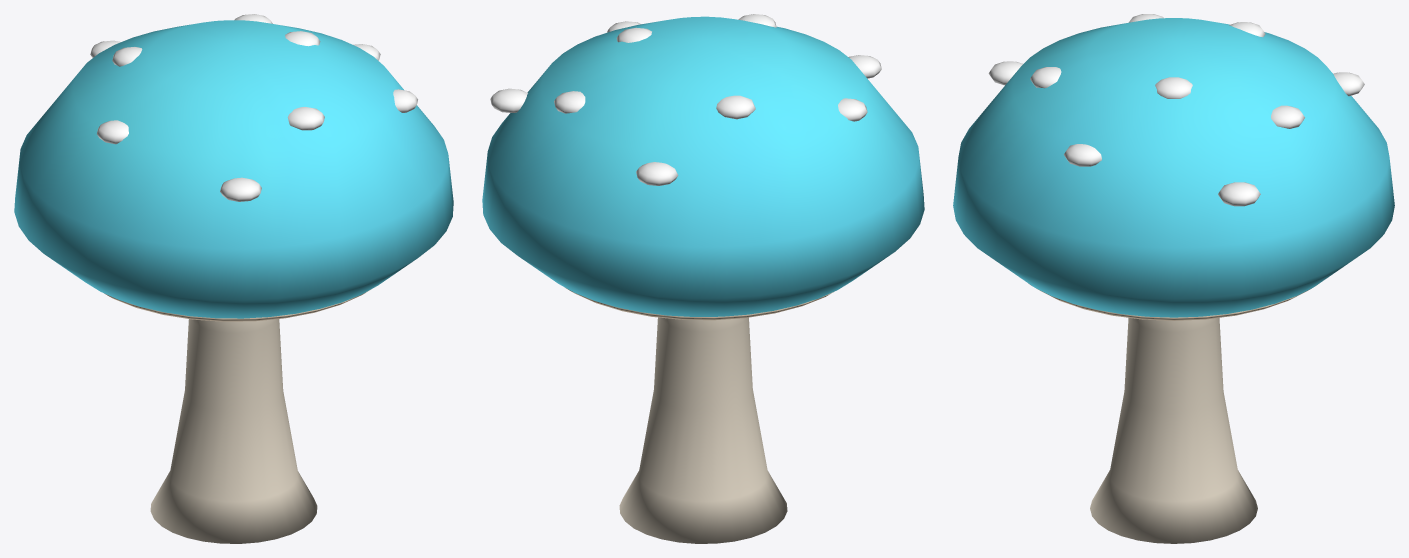
The model's file is bg_mush_aqua.glb.
3 views of the same model, side by side, from view 1: azimuth 30°, elevation 25°; view 2: azimuth 150°, elevation 25°; view 3: azimuth 270°, elevation 25° (orthographic).
Visible parts, largest first — view 1: M_Mush_aqua__m_cap_aqua, M_Mush_aqua__m_stem, M_Mush_aqua__m_spot, M_Mush_aqua__m_under; view 2: M_Mush_aqua__m_cap_aqua, M_Mush_aqua__m_stem, M_Mush_aqua__m_spot, M_Mush_aqua__m_under; view 3: M_Mush_aqua__m_cap_aqua, M_Mush_aqua__m_stem, M_Mush_aqua__m_spot, M_Mush_aqua__m_under.
Part boxes in pixels (x1,y1,x2,y2): M_Mush_aqua__m_cap_aqua: [14, 20, 453, 318]; M_Mush_aqua__m_stem: [150, 319, 317, 543]; M_Mush_aqua__m_spot: [90, 14, 417, 201]; M_Mush_aqua__m_under: [104, 289, 371, 321]; M_Mush_aqua__m_cap_aqua: [482, 16, 924, 316]; M_Mush_aqua__m_stem: [619, 317, 787, 543]; M_Mush_aqua__m_spot: [490, 14, 881, 185]; M_Mush_aqua__m_under: [566, 288, 834, 320]; M_Mush_aqua__m_cap_aqua: [953, 18, 1394, 317]; M_Mush_aqua__m_stem: [1090, 318, 1257, 543]; M_Mush_aqua__m_spot: [988, 14, 1364, 206]; M_Mush_aqua__m_under: [1028, 283, 1319, 320].
Size of the model in its own units: 4.1 by 4.78 by 4.1.
